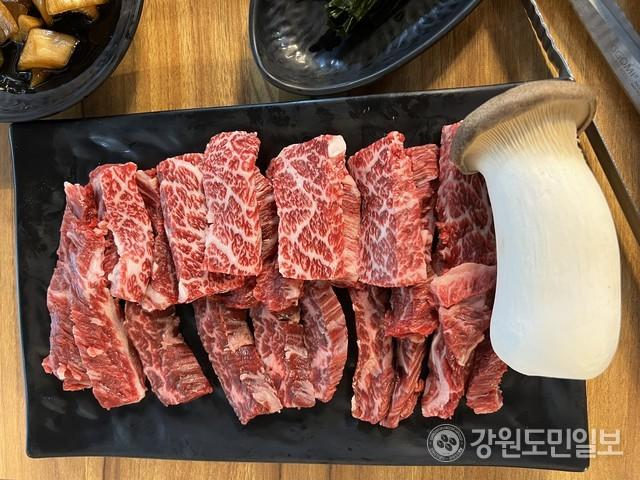beef: (61, 119, 481, 304)
